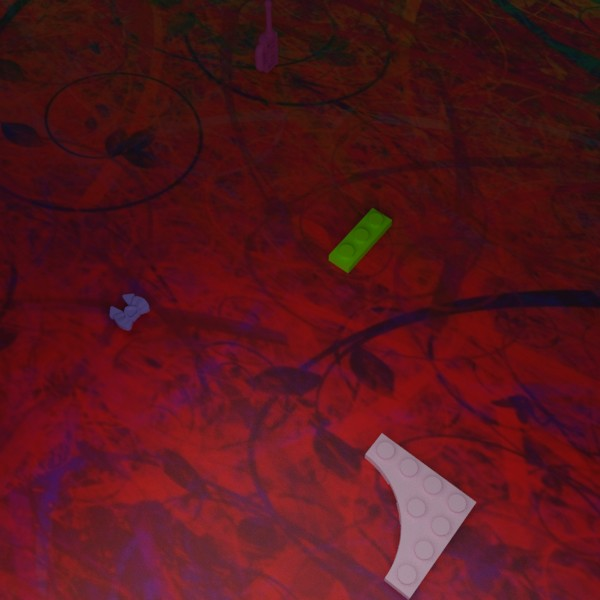lego: (364, 433, 476, 600), (328, 207, 392, 273), (254, 0, 278, 73), (109, 293, 149, 330)
